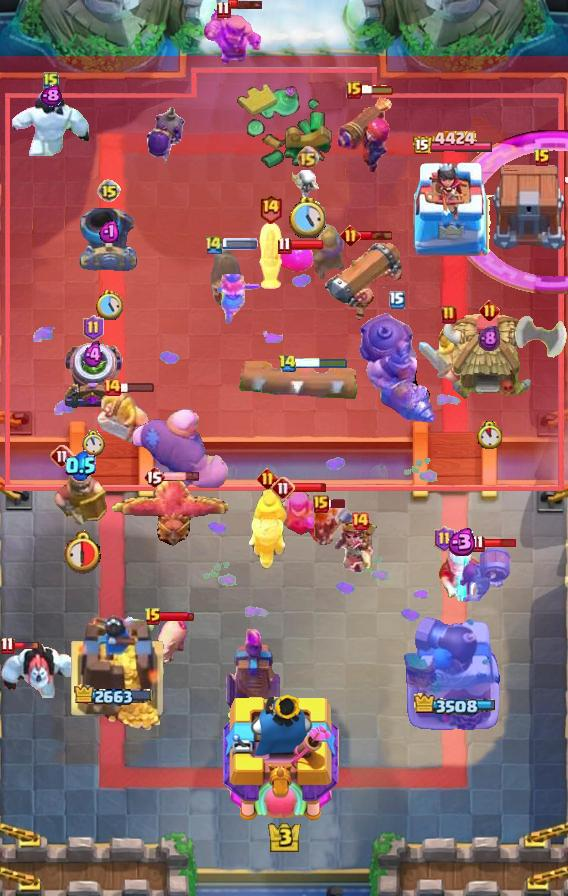axe: (515, 316, 567, 376)
bar: (295, 357, 348, 370), (159, 611, 195, 623), (119, 381, 155, 393), (289, 239, 325, 251), (222, 238, 258, 250), (358, 229, 394, 241), (359, 84, 395, 96), (483, 537, 518, 549), (163, 471, 200, 482), (293, 482, 327, 493), (228, 0, 264, 10), (6, 641, 40, 651), (327, 498, 347, 509)
bar-level: (258, 193, 283, 224), (271, 476, 295, 500), (50, 444, 74, 468), (97, 179, 121, 203), (434, 526, 455, 552), (83, 315, 104, 341), (296, 146, 319, 169), (143, 465, 165, 489), (257, 468, 278, 489), (479, 300, 500, 321), (340, 225, 361, 246), (204, 234, 224, 255), (350, 511, 370, 531), (102, 377, 122, 397), (278, 354, 297, 373), (144, 607, 162, 627), (533, 148, 551, 168), (441, 305, 457, 325), (43, 71, 59, 91), (313, 495, 329, 513), (389, 291, 405, 309), (346, 81, 362, 99), (0, 636, 15, 655), (470, 534, 485, 553), (277, 236, 292, 255), (216, 0, 231, 19)
barbarian-evolution: (200, 3, 264, 71)
bomber-evolution: (143, 105, 189, 169)
cannoneer-tower: (402, 615, 504, 731)
clock: (60, 529, 101, 574), (289, 197, 326, 238), (96, 290, 123, 320), (477, 421, 502, 449), (82, 430, 105, 457)
elite-barbarian: (416, 322, 482, 386), (97, 391, 150, 443)
elixir: (65, 450, 96, 481), (444, 528, 477, 556), (478, 325, 500, 352), (83, 341, 104, 369), (40, 85, 62, 107), (99, 219, 119, 243)
elixir-golem-small: (274, 245, 314, 273)
firecracker-evolution: (335, 94, 395, 174)
hog: (147, 616, 189, 668)
ice-wizard: (436, 535, 484, 601)
king-tower: (223, 689, 345, 826)
little-prince: (333, 520, 387, 578)
mortar: (79, 207, 139, 271)
mortar-evolution: (61, 341, 125, 411)
mother-witch: (271, 486, 327, 546)
musketeer: (211, 246, 247, 306), (312, 219, 346, 279)
queen-tower: (63, 613, 166, 731), (408, 158, 498, 256)
ram-rider: (246, 488, 288, 570)
royal-hog: (254, 218, 286, 292)
royal-recruit: (53, 453, 107, 525)
skeleton: (292, 170, 323, 200)
the-log: (236, 361, 360, 401)
tower-bar: (412, 130, 494, 157), (74, 684, 154, 708), (412, 693, 495, 716)
valkyrie: (215, 272, 263, 326), (312, 502, 356, 552)
wall-breaker: (458, 546, 514, 604)
